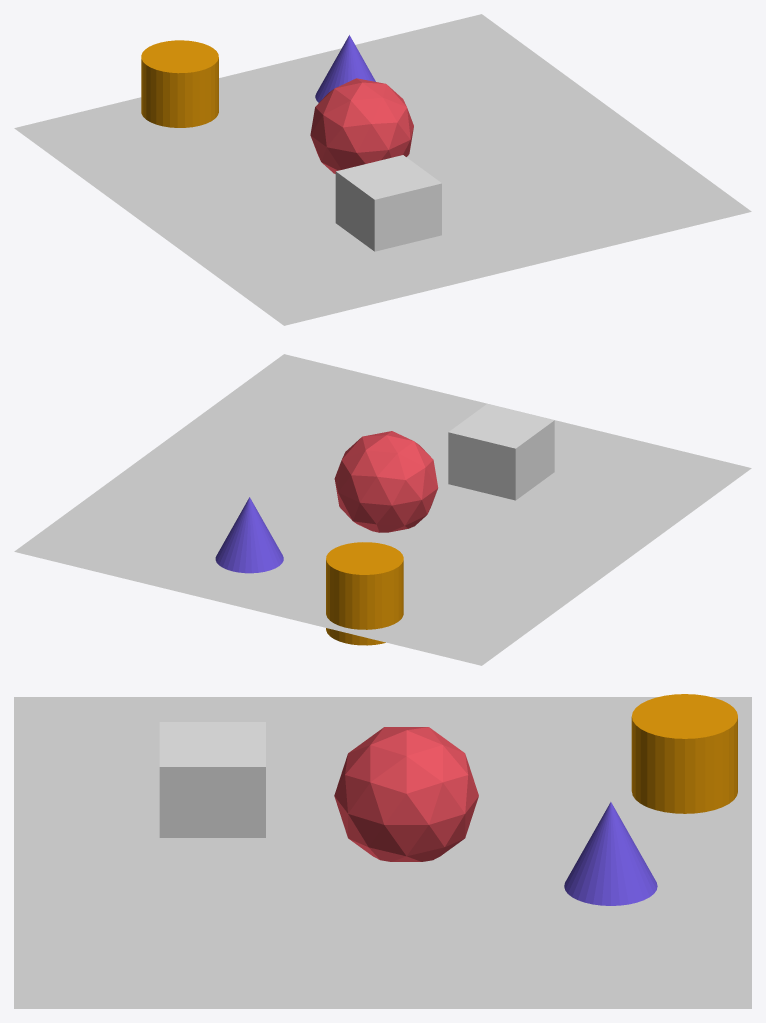
Rendered from tjs.gltf.
The picture shows the model from 3 angles, top to bottom: view 1: azimuth 30°, elevation 25°; view 2: azimuth 150°, elevation 25°; view 3: azimuth 270°, elevation 25°; orthographic projection. The views are drawn at different scales.
Parts seen in each view (by area): view 1: Plane, Cube, Icosphere, Cylinder, Cone; view 2: Plane, Cube, Icosphere, Cylinder, Cone; view 3: Plane, Icosphere, Cube, Cylinder, Cone.
Part boxes in pixels (<box>): Plane: <box>14,14,751,325</box>; Cube: <box>335,155,441,251</box>; Icosphere: <box>310,78,413,173</box>; Cylinder: <box>141,40,218,127</box>; Cone: <box>315,35,375,102</box>; Plane: <box>14,354,751,665</box>; Cube: <box>448,404,554,500</box>; Icosphere: <box>334,431,438,532</box>; Cylinder: <box>326,542,403,645</box>; Cone: <box>215,497,283,573</box>; Plane: <box>14,697,751,1008</box>; Icosphere: <box>334,727,478,861</box>; Cube: <box>159,722,265,837</box>; Cylinder: <box>631,694,737,813</box>; Cone: <box>564,802,657,905</box>.
Size of the model in its own units: 13.88 by 2.91 by 13.88.
